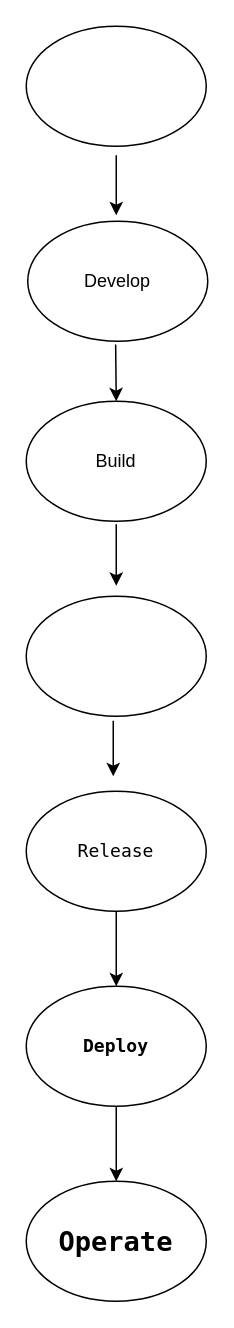
Image size: 234x1328. Some labels were removed from this diagram. The box of each missing label's shape, as (x1, y1, x2, y2) in pixels:
planning: (25, 25, 206, 146)
Test: (25, 595, 206, 716)
